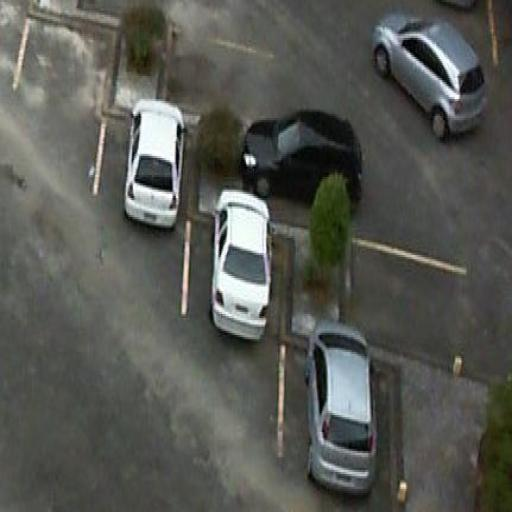car: (370, 8, 492, 148), (303, 318, 379, 504), (238, 105, 364, 215), (209, 188, 273, 348), (124, 97, 186, 234)
